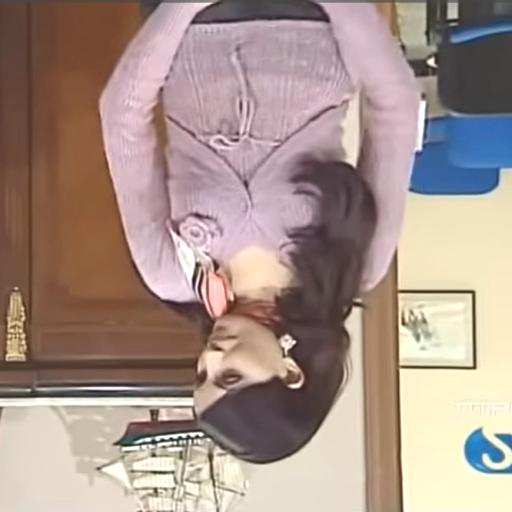Dalanda: (194, 311, 305, 414)
